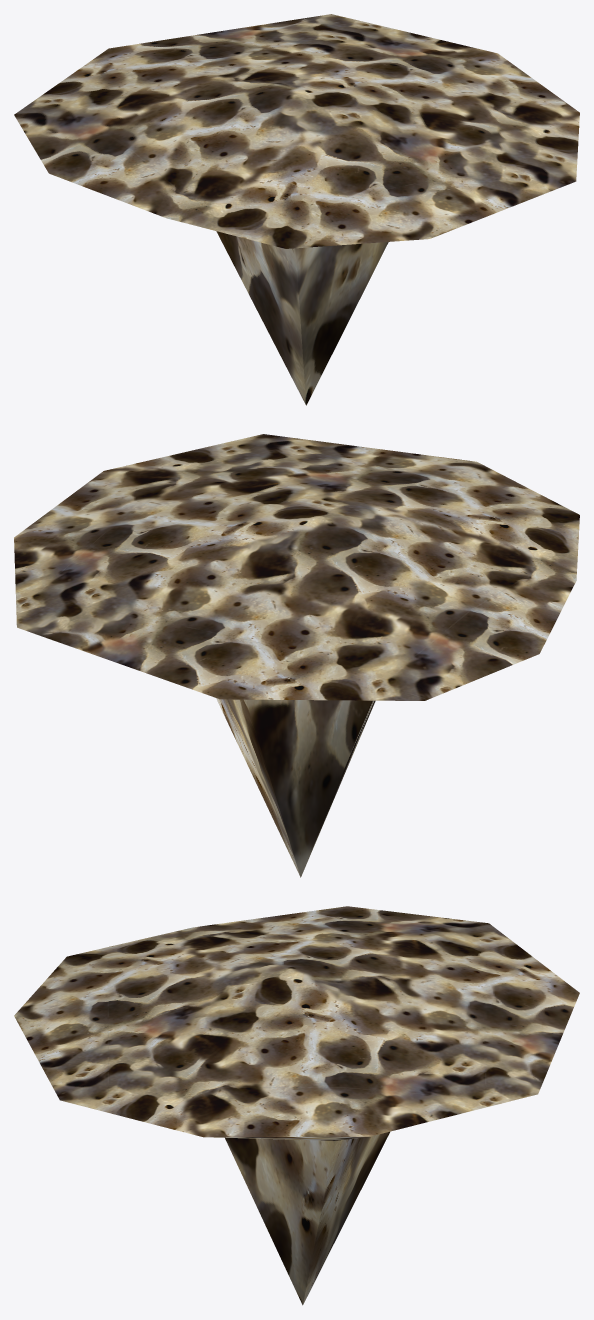
The model's file is CoralStone-02_LOD1.fbx.
3 views of the same model, one above another, from view 1: azimuth 30°, elevation 25°; view 2: azimuth 150°, elevation 25°; view 3: azimuth 270°, elevation 25° (orthographic). The views are drawn at different scales.
Visible parts, largest first — view 1: CoralStone-02_medium; view 2: CoralStone-02_medium; view 3: CoralStone-02_medium.
Part boxes in pixels (x1,y1,x2,y2): CoralStone-02_medium: [14, 14, 579, 405]; CoralStone-02_medium: [14, 434, 579, 877]; CoralStone-02_medium: [14, 906, 579, 1305].
Bounding box in the file's own units: 0.238 × 0.1576 × 0.2465.
